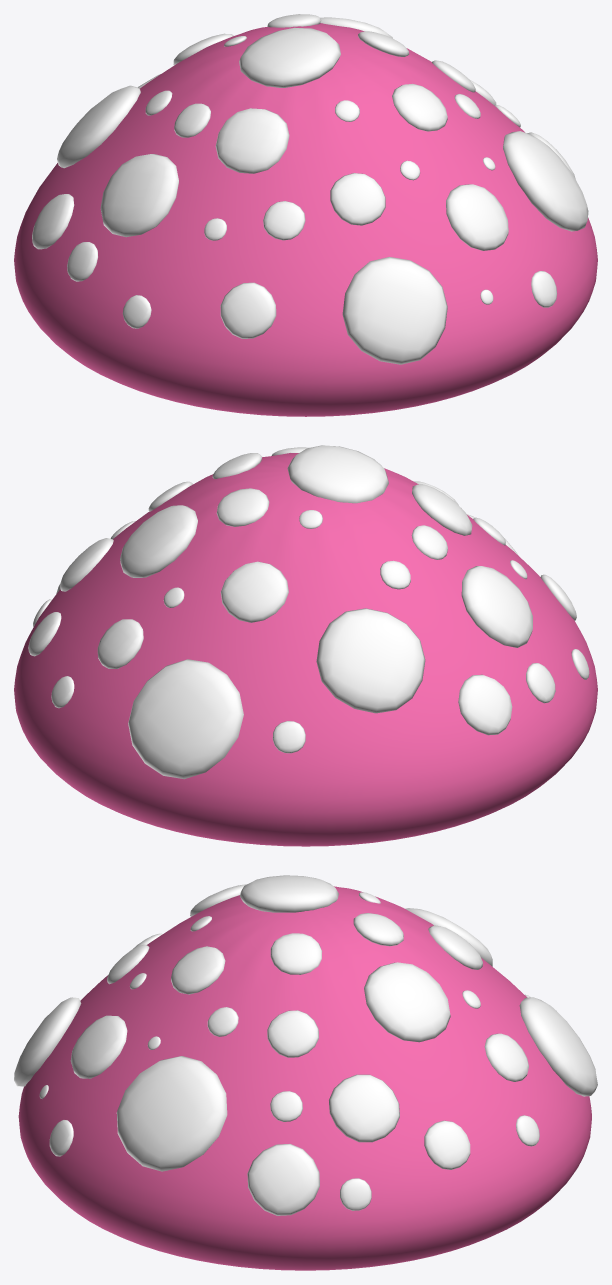
File: cab.fbx
The picture shows the model from 3 angles, top to bottom: view 1: azimuth 30°, elevation 25°; view 2: azimuth 150°, elevation 25°; view 3: azimuth 270°, elevation 25°; orthographic projection.
Parts seen in each view (by area): view 1: Circle.001; view 2: Circle.001; view 3: Circle.001.
Boxes of the visible parts, x1,y1,x2,y2 form: Circle.001: (14, 14, 597, 416); Circle.001: (14, 445, 597, 846); Circle.001: (14, 875, 597, 1270).
Size of the model in its own units: 225 by 120 by 229.
